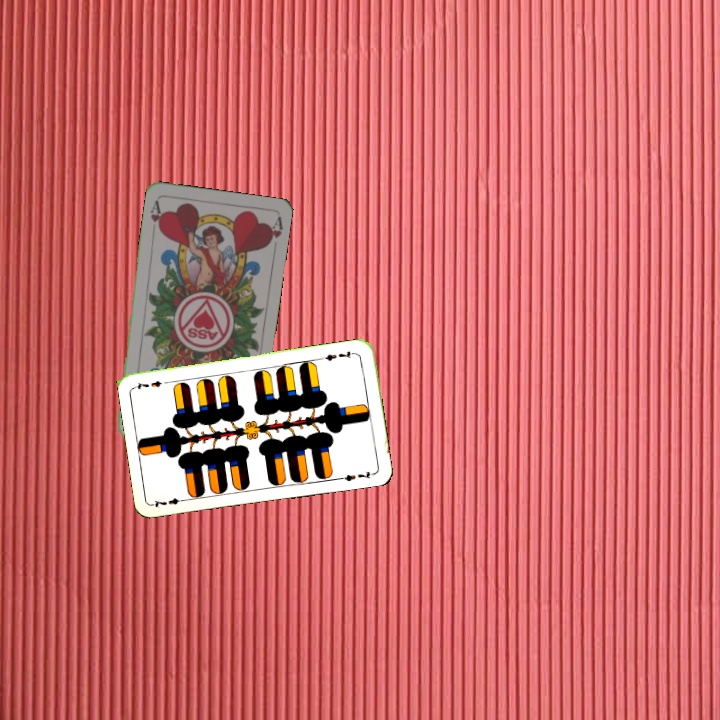E7: (318, 347, 359, 363), (149, 494, 190, 510)
HA: (146, 196, 166, 235)
